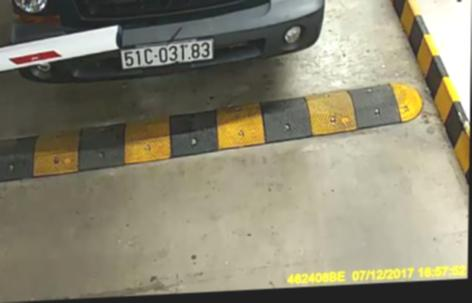License_Plate: (117, 38, 218, 75)
